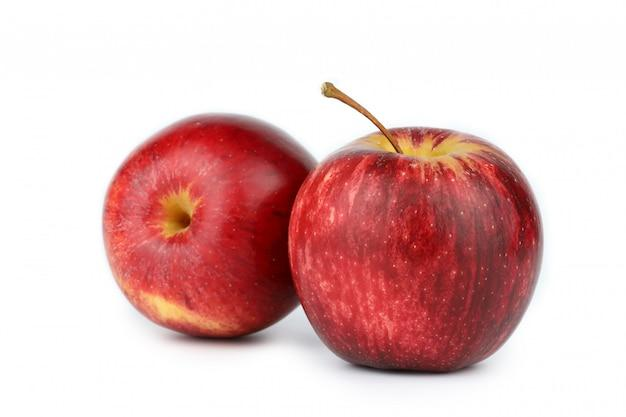apples: (277, 71, 539, 382), (86, 100, 315, 360)
